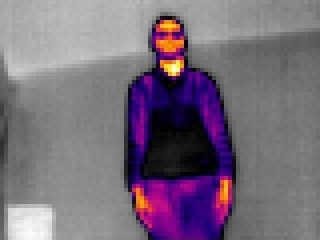human: (124, 15, 234, 240)
